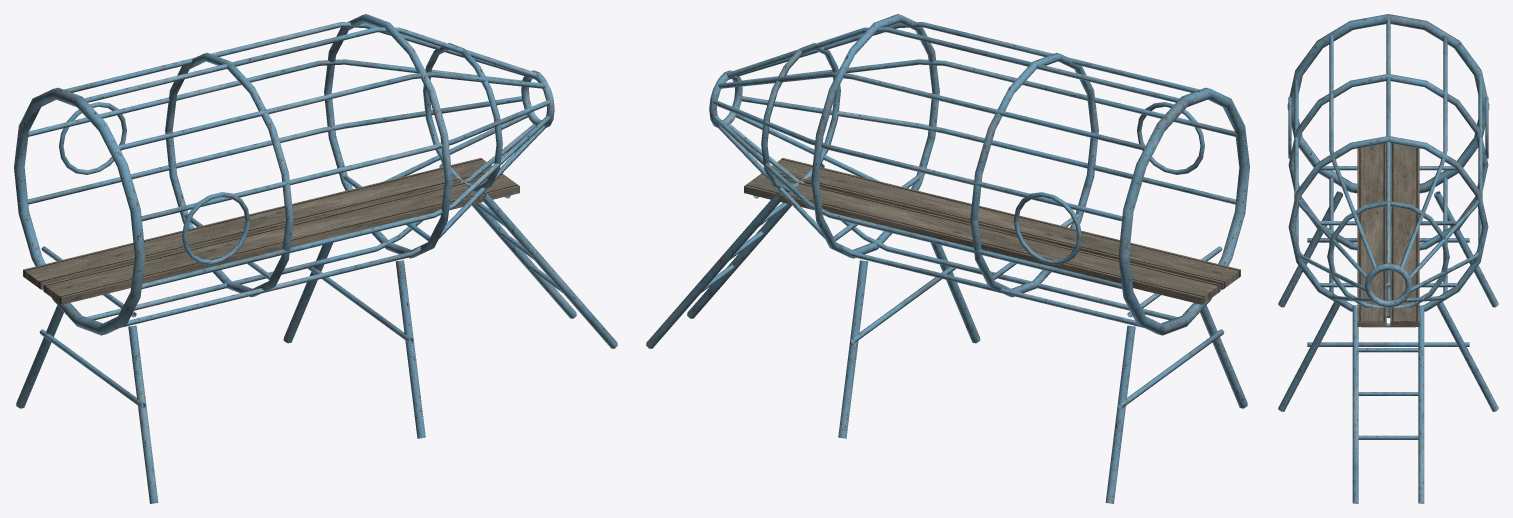
File: playground_rocket_tunnel_lod2_web.glb
3 renders of one model, left to right at view 1: azimuth 30°, elevation 25°; view 2: azimuth 150°, elevation 25°; view 3: azimuth 270°, elevation 25°, orthographic. The views are drawn at different scales.
Visible parts, largest first — view 1: RocketTunnel_Mesh; view 2: RocketTunnel_Mesh; view 3: RocketTunnel_Mesh.
Part boxes in pixels (<box>): RocketTunnel_Mesh: <box>14,14,617,503</box>; RocketTunnel_Mesh: <box>646,14,1249,503</box>; RocketTunnel_Mesh: <box>1278,14,1498,503</box>.
Size of the model in its own units: 2.97 by 1.85 by 1.28.
Materials: 2 (2 with a texture image).
